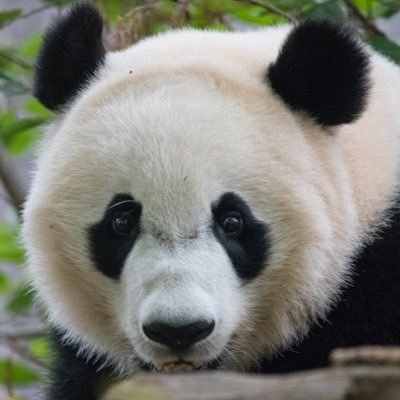panda: (35, 14, 394, 391)
